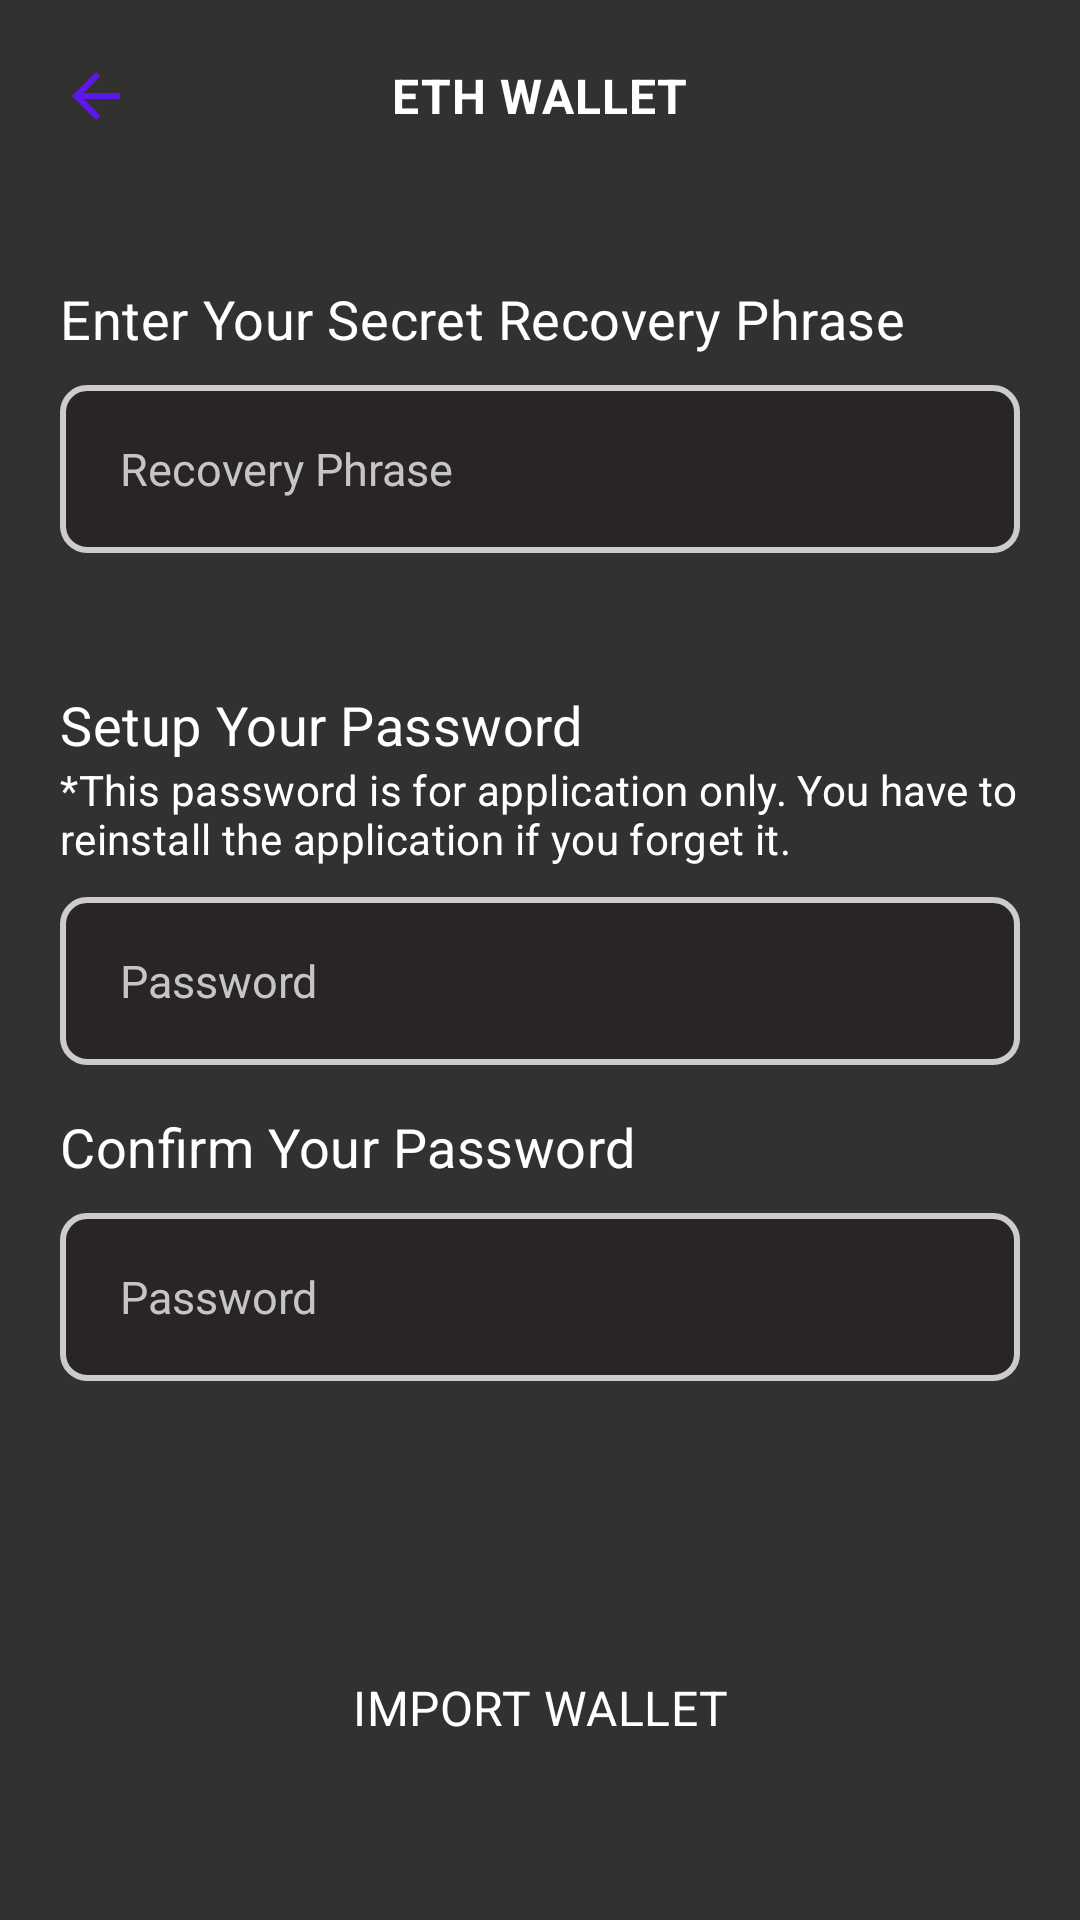

Locate icon controls on the screen. Image size 1080px×1920px, boxes as region(x1, y1, x2, y2).
arrow back: region(72, 72, 120, 120)
